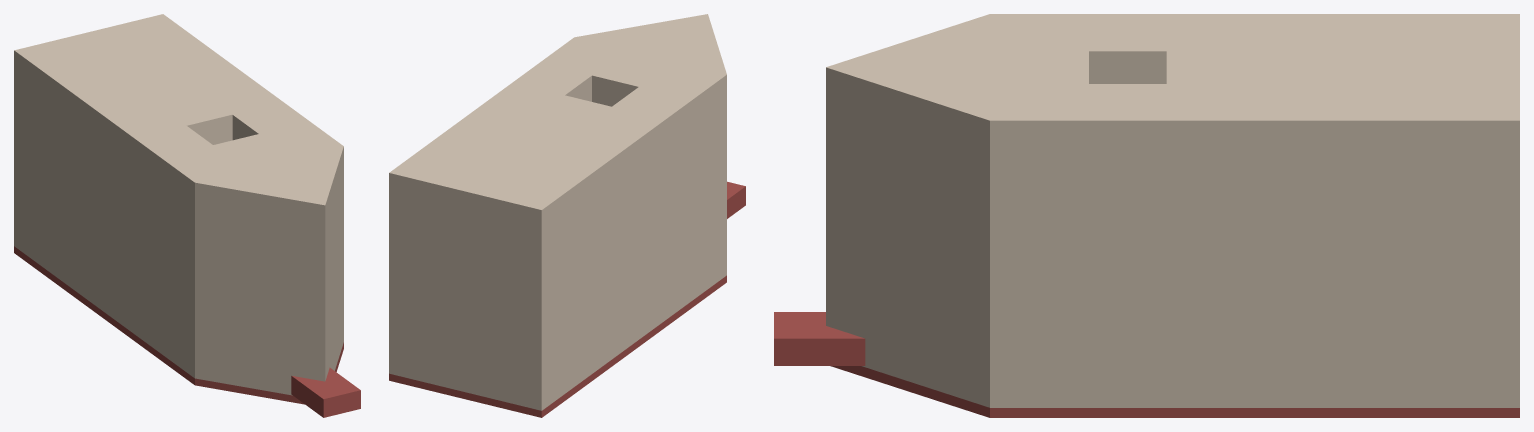
Rendered from tinker.obj.
The picture shows the model from 3 angles, left to right: view 1: azimuth 30°, elevation 25°; view 2: azimuth 150°, elevation 25°; view 3: azimuth 270°, elevation 25°; orthographic projection. The views are drawn at different scales.
Parts seen in each view (by area): view 1: group_0_16772826, group_0_11097424; view 2: group_0_16772826, group_0_11097424; view 3: group_0_16772826, group_0_11097424.
Part boxes in pixels (box(x1,y1,x2,y2)): group_0_16772826: box(14, 14, 343, 395); group_0_11097424: box(14, 246, 360, 417); group_0_16772826: box(389, 14, 726, 410); group_0_11097424: box(389, 181, 745, 417); group_0_16772826: box(826, 14, 1519, 407); group_0_11097424: box(774, 312, 1519, 417).
Size of the model in its own units: 20 by 26 by 59.1.
